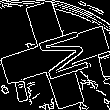M_W: (24, 25, 86, 85)
